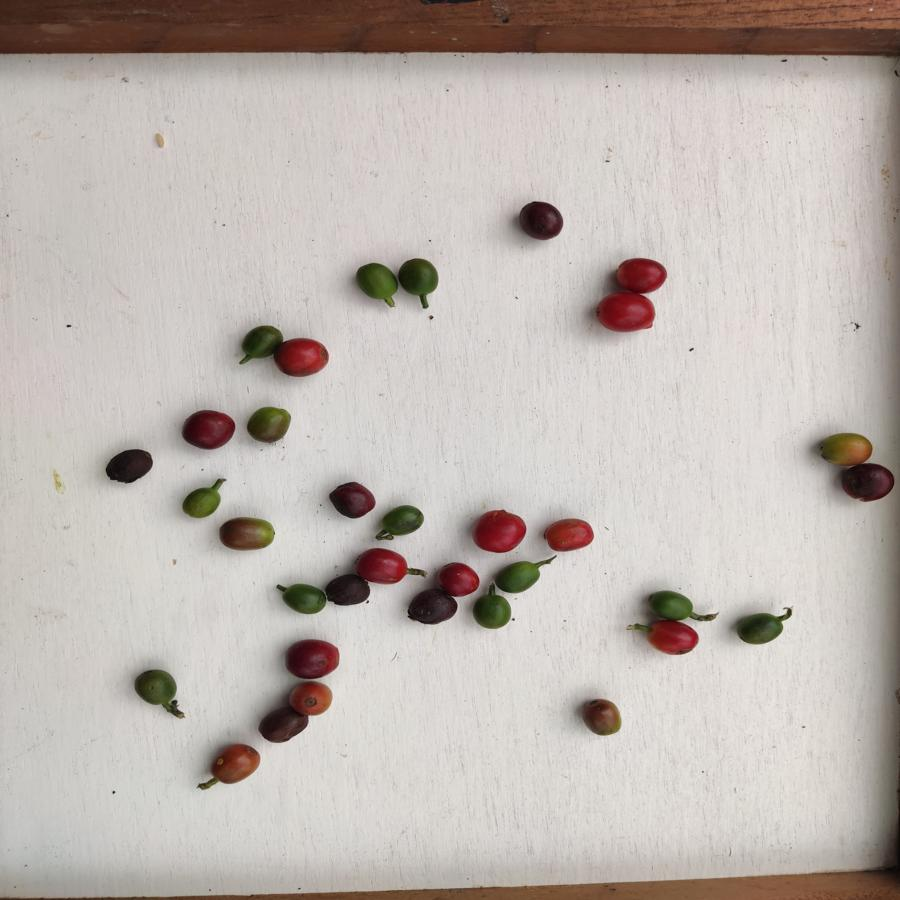Inmaduro: (131, 666, 180, 711), (359, 263, 402, 305), (398, 258, 441, 299), (647, 589, 695, 622), (238, 322, 276, 363), (282, 582, 326, 617), (493, 561, 541, 593), (177, 486, 222, 520), (383, 504, 427, 538), (473, 592, 513, 629), (737, 613, 783, 645)
Maduro: (593, 288, 660, 337), (468, 510, 529, 554), (611, 253, 667, 294), (543, 516, 596, 554), (277, 338, 328, 377), (643, 622, 699, 657), (355, 547, 410, 582), (434, 561, 480, 592)
Pinton: (216, 515, 281, 553), (815, 429, 879, 467), (209, 745, 262, 787), (247, 405, 292, 447), (578, 697, 624, 737), (287, 680, 337, 715)
Sobremaduro: (180, 409, 241, 450), (282, 639, 343, 680), (839, 464, 897, 503), (405, 588, 456, 628), (328, 481, 379, 520), (105, 448, 155, 486), (258, 708, 305, 748), (519, 201, 564, 242), (325, 575, 369, 607)
